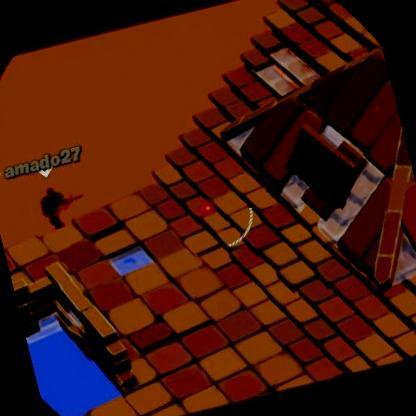person: (37, 184, 71, 232)
